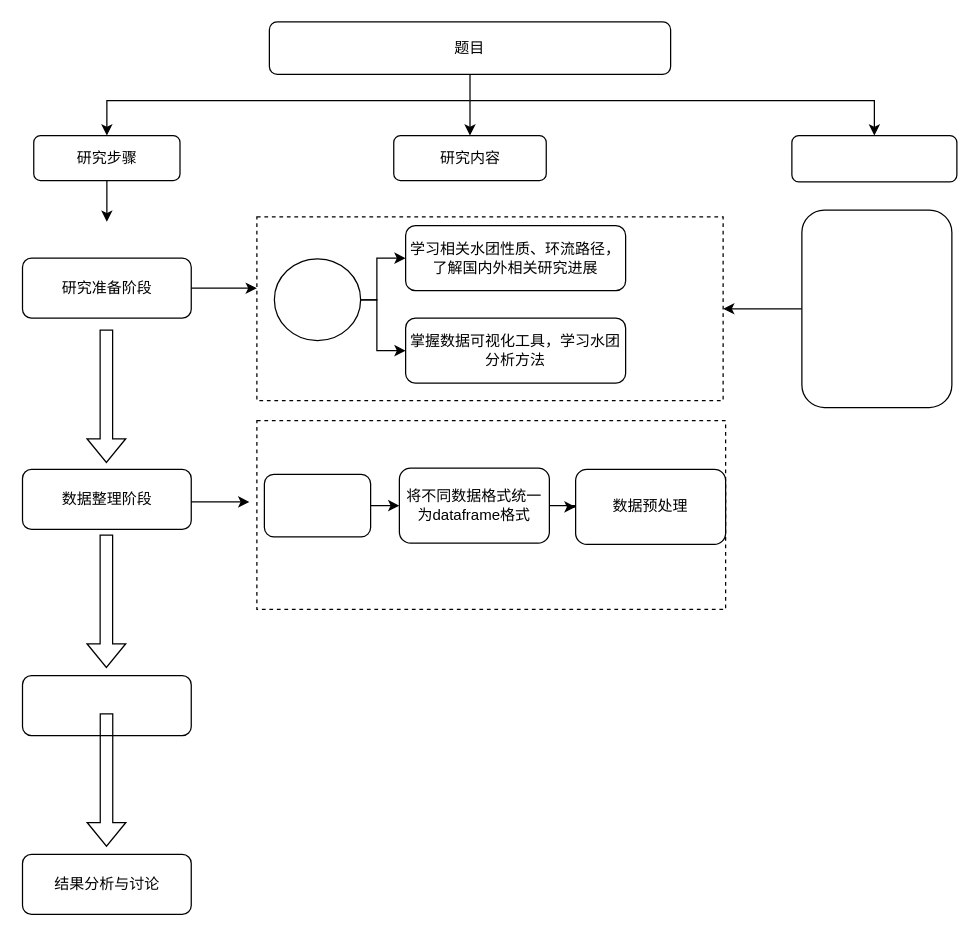
Image size: 979x936. Some labels were removed from this diagram. Each missing label, with the centre of its shape:
"基础理论及技能学习" belongs at pixel 317 299.
"数据下载与提取" belongs at pixel 317 505.
"数据可视化" belongs at pixel 106 705.
"文献阅读并归纳整理 参照相关说明书学习使用工具(matplotlib、seaborn、cartopy等)" belongs at pixel 876 308.
"研究方法" belongs at pixel 874 158.
